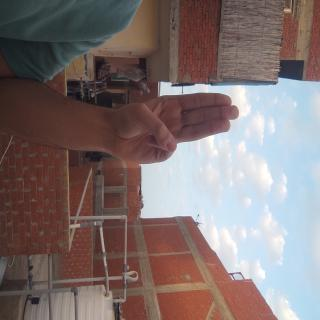THA: (67, 108, 128, 285)
